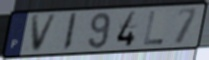4: (115, 10, 137, 48)
7: (174, 6, 198, 46)
9: (86, 11, 112, 50)
I: (61, 12, 79, 52)
L: (143, 10, 165, 46)
V: (30, 12, 60, 54)
